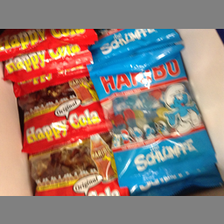candy: (88, 55, 213, 188)
